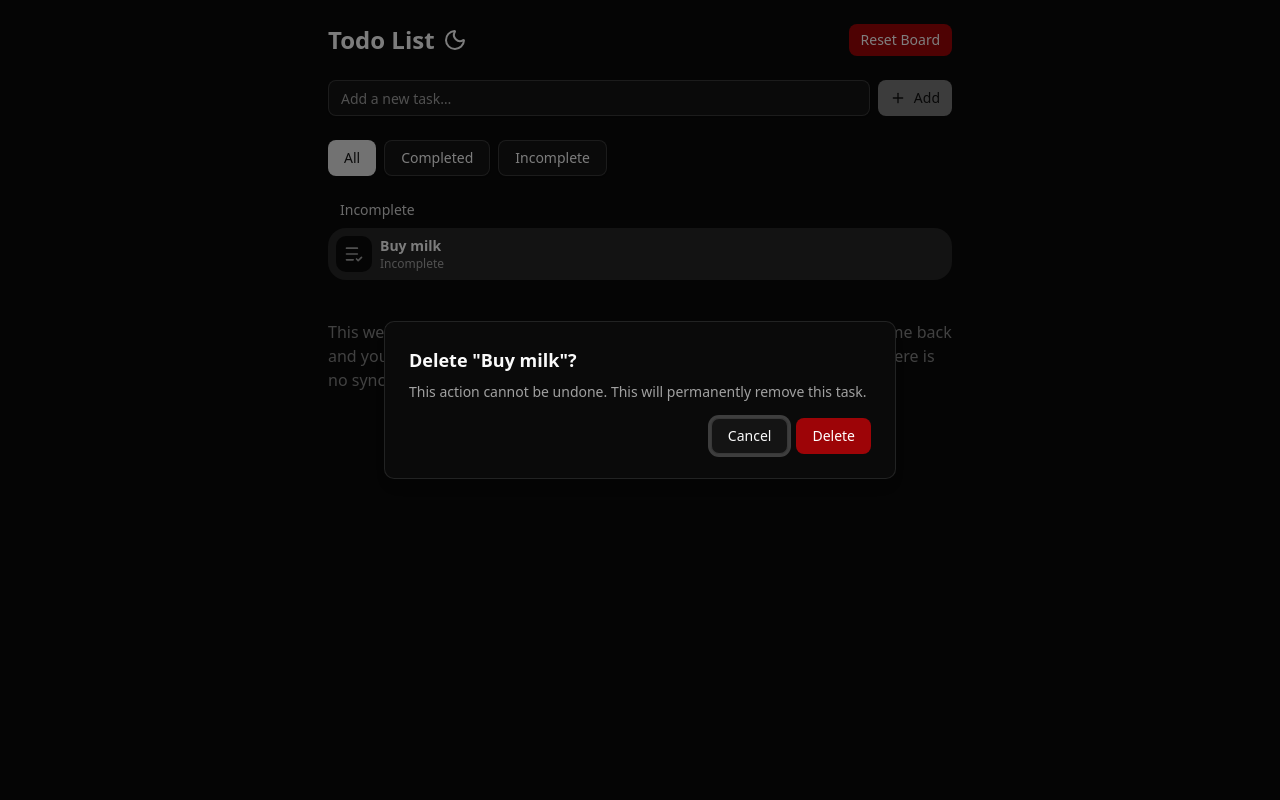
Todo App › deletes a task after confirming in the alert dialog
Earlier steps of the test are not shown.
Expected: the dialog is shown, 384,321 -> 896,479
Click the button "Delete": [834, 436] box 796,418 -> 871,454
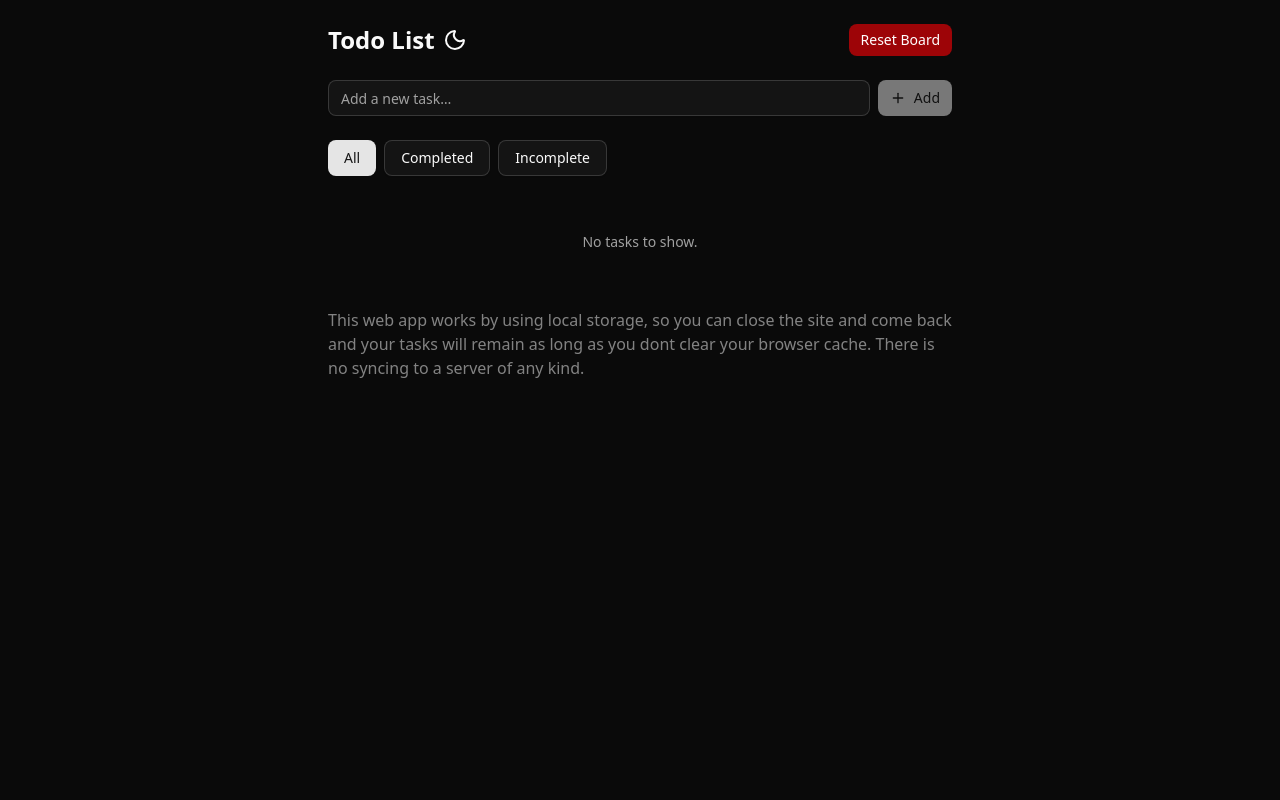
Expected: the text "Buy milk" is gone
